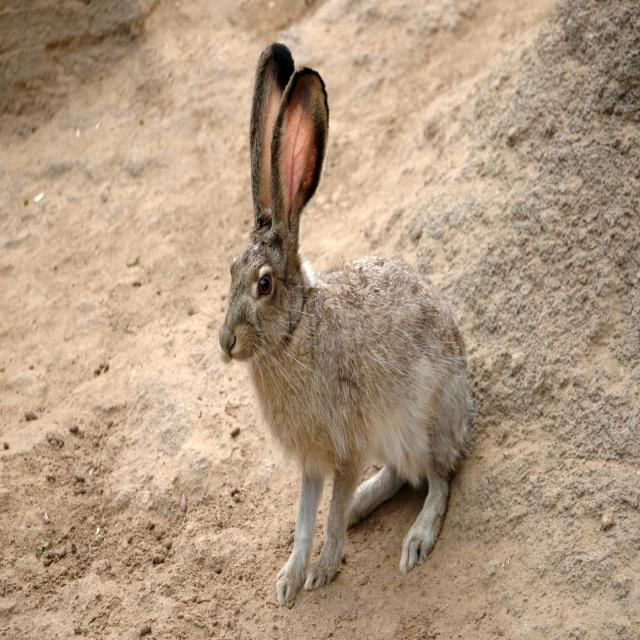hare: (218, 43, 469, 605)
